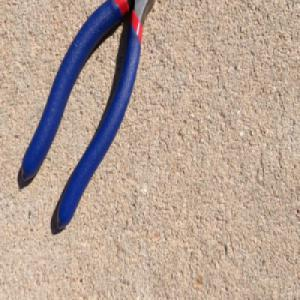Pliers: (20, 0, 158, 232)
